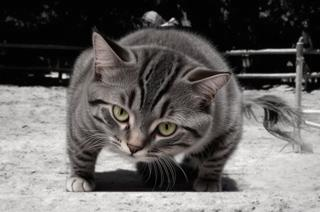cat: (66, 26, 242, 191)
person: (131, 11, 174, 110)
